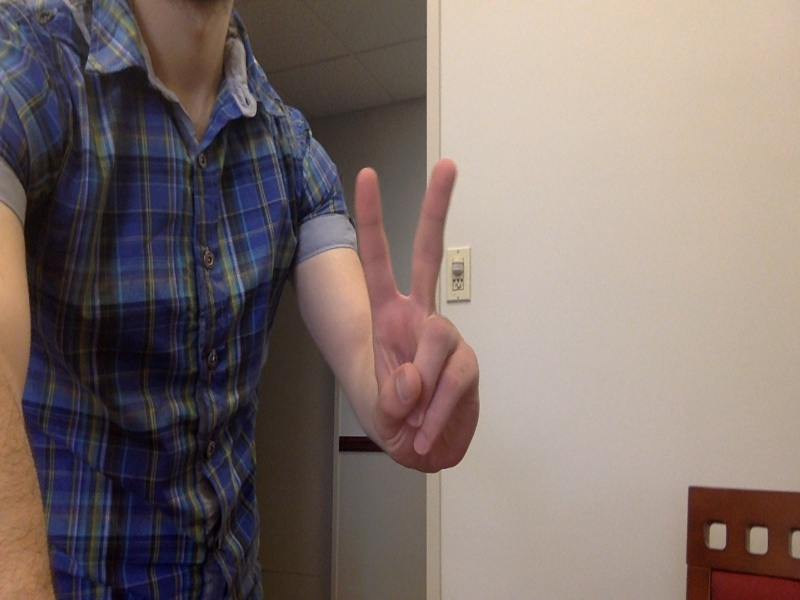2-hand: (355, 159, 483, 473)
